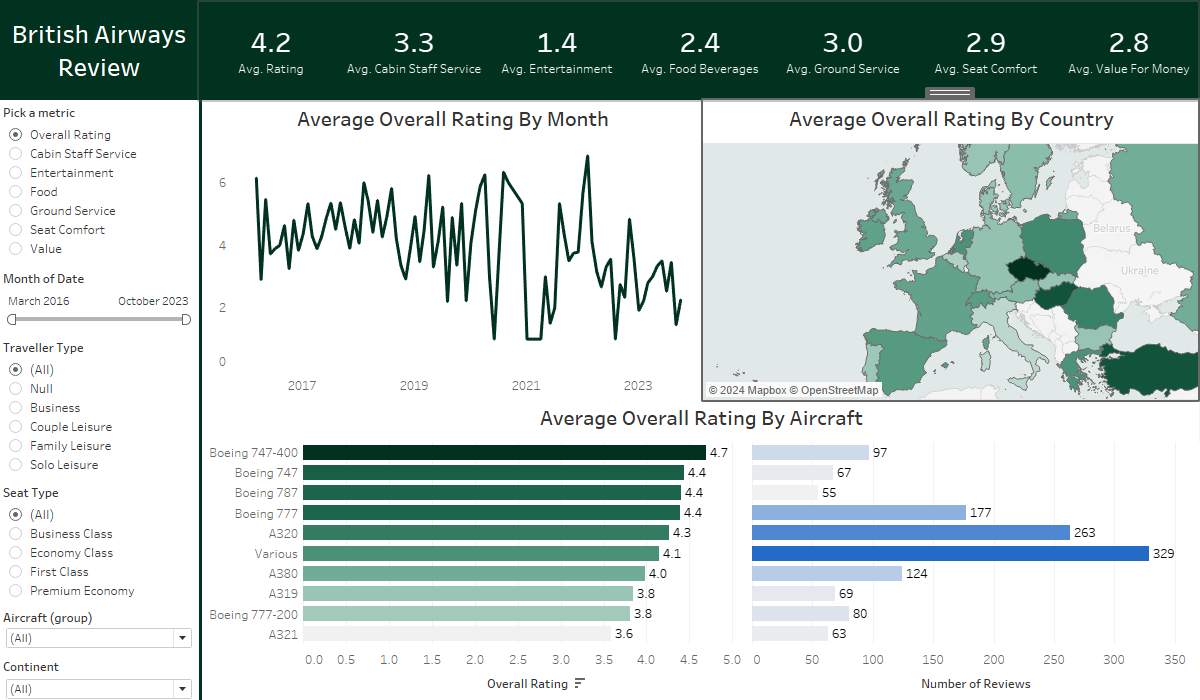

The dashboard page shown, as its layout file describes it:
{"tool":"tableau","page":{"name":"Dashboard 1","canvas":[1200,700],"ordinal":0},"visuals":[{"type":"text","box":[0,0,200,100]},{"type":"worksheet","title":"Summary","mark":"Automatic","box":[200,0,1001,100]},{"type":"parameter","param":"[Parameters].[Parameter 1]","box":[0,100,200,166]},{"type":"worksheet","title":"Month","mark":"Automatic","rows":["Calculation_745627221744136192"],"cols":["date"],"box":[204,100,500,300]},{"type":"worksheet","title":"Map","mark":"Automatic","box":[704,100,497,300]},{"type":"filter","title":"Map","param":"[federated.01n4hwz1t8digk13c26pw14motht].[tmn:date:qk]","box":[0,266,200,69]},{"type":"filter","title":"Map","param":"[federated.01n4hwz1t8digk13c26pw14motht].[none:traveller_type:nk]","box":[0,335,200,145]},{"type":"worksheet","title":"Aircraft","mark":"Automatic","cols":["Calculation_745627221744136192","ba_reviews.csv_12D005D81D0B4700A2679F66F3E3A610"],"box":[204,399,997,300]},{"type":"filter","title":"Map","param":"[federated.01n4hwz1t8digk13c26pw14motht].[none:seat_type:nk]","box":[0,480,200,125]},{"type":"filter","title":"Map","param":"[federated.01n4hwz1t8digk13c26pw14motht].[Aircraft (group)]","box":[0,605,200,49]}]}

Visuals, with their boxes in screenshot pixels (x1, y1, x2, y2), scaled from the page's 1200x700 canvas onto the 1200x700 screenshot:
text: [0,0,200,100]
"Summary" worksheet: [200,0,1199,100]
parameter: [0,100,200,266]
"Month" worksheet: [204,100,704,400]
"Map" worksheet: [704,100,1199,400]
"Map" filter: [0,266,200,335]
"Map" filter: [0,335,200,480]
"Aircraft" worksheet: [204,399,1199,699]
"Map" filter: [0,480,200,605]
"Map" filter: [0,605,200,654]
